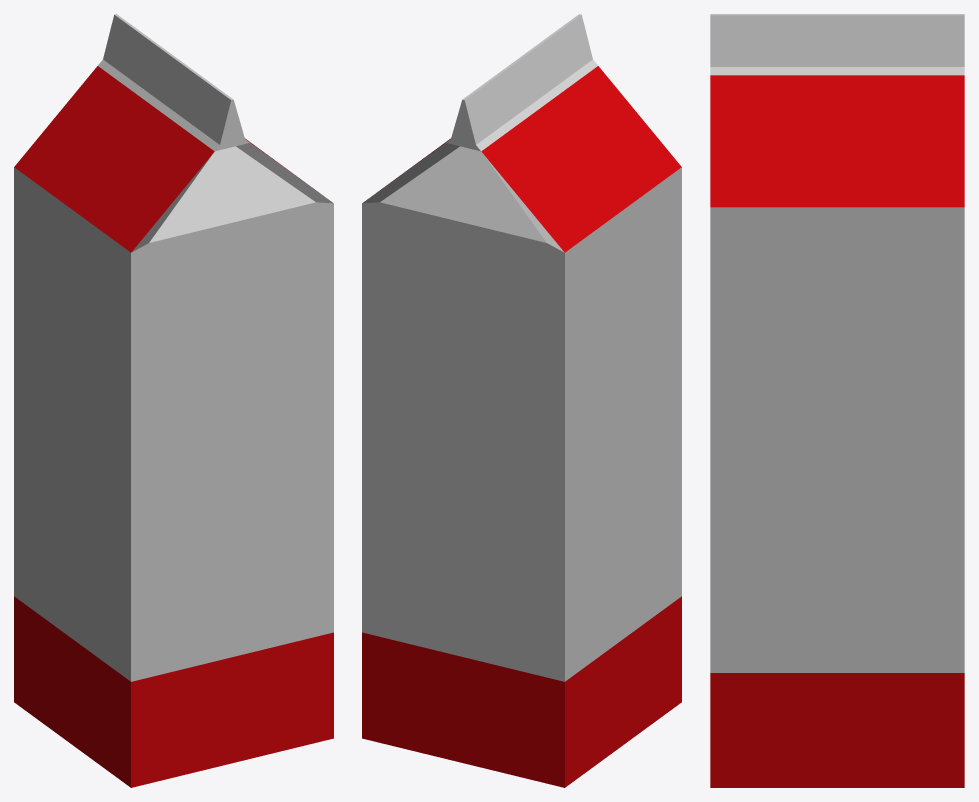
Rendered from milk not trash.fbx.
The picture shows the model from 3 angles, left to right: view 1: azimuth 30°, elevation 25°; view 2: azimuth 150°, elevation 25°; view 3: azimuth 270°, elevation 25°; orthographic projection. The views are drawn at different scales.
Visible parts, largest first — view 1: Cube; view 2: Cube; view 3: Cube.
Part boxes in pixels (x1,y1,x2,y2): Cube: (14, 14, 333, 787); Cube: (362, 14, 681, 787); Cube: (710, 14, 964, 787).
Size of the model in its own units: 2 by 6.25 by 2.
